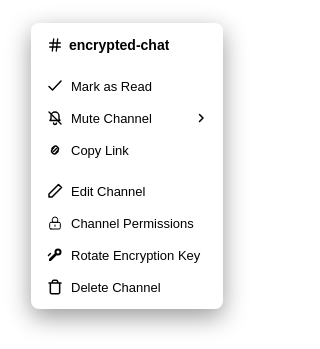
Test: ChannelContextMenu — Rotate Encryption Key › shows fallback error message on network failure
The width and height of the screenshot is (320, 349).
What coordinates should you click on to do the following:
click the button "Rotate Encryption Key"
I would click on:
 (127, 255)
Its box is [37,239,217,271].
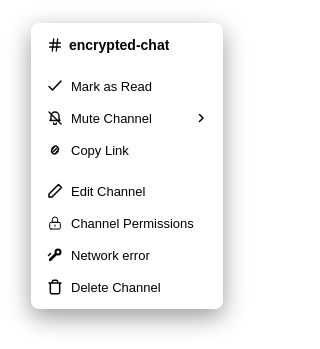
Expected: the text "Network error" is shown, [71,248,150,262]
